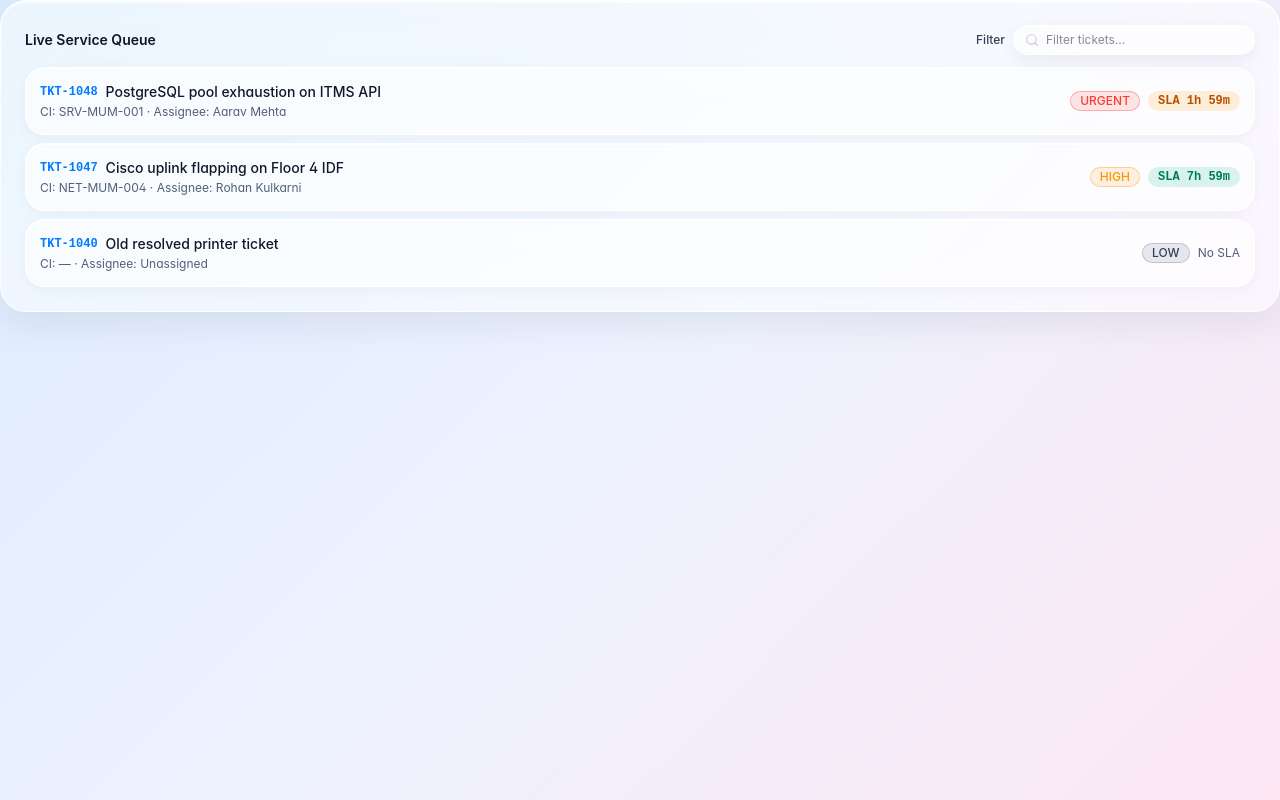
Test: ServiceQueue (task 9) › opens the inspect slide-over on row click and closes via Escape/backdrop
Click the text "TKT-1048" at (69, 92), box [40,84,98,100]
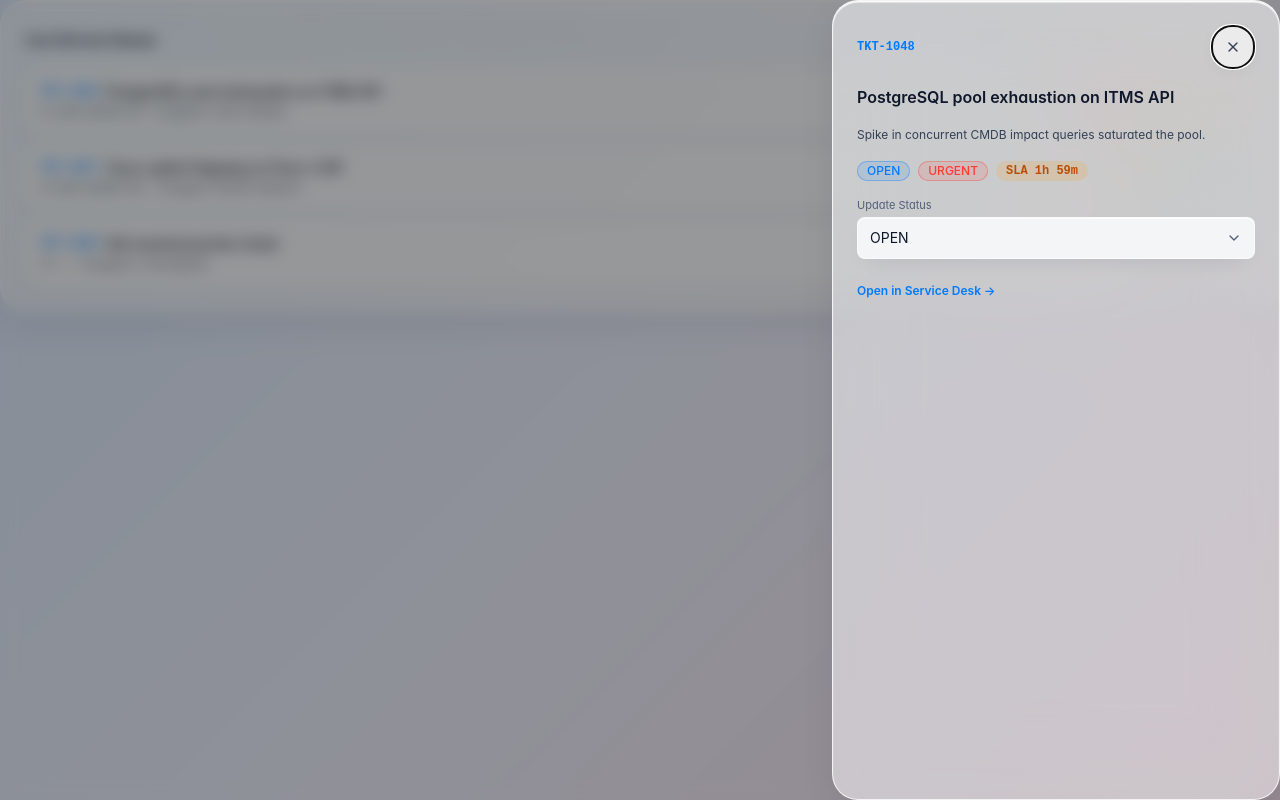
Expected: the text "TKT-1048" is shown, [857,39,915,55]
Expected: the text "Spike in concurrent CMDB impact queries saturated the pool." is shown, [857,125,1255,144]
Press Escape
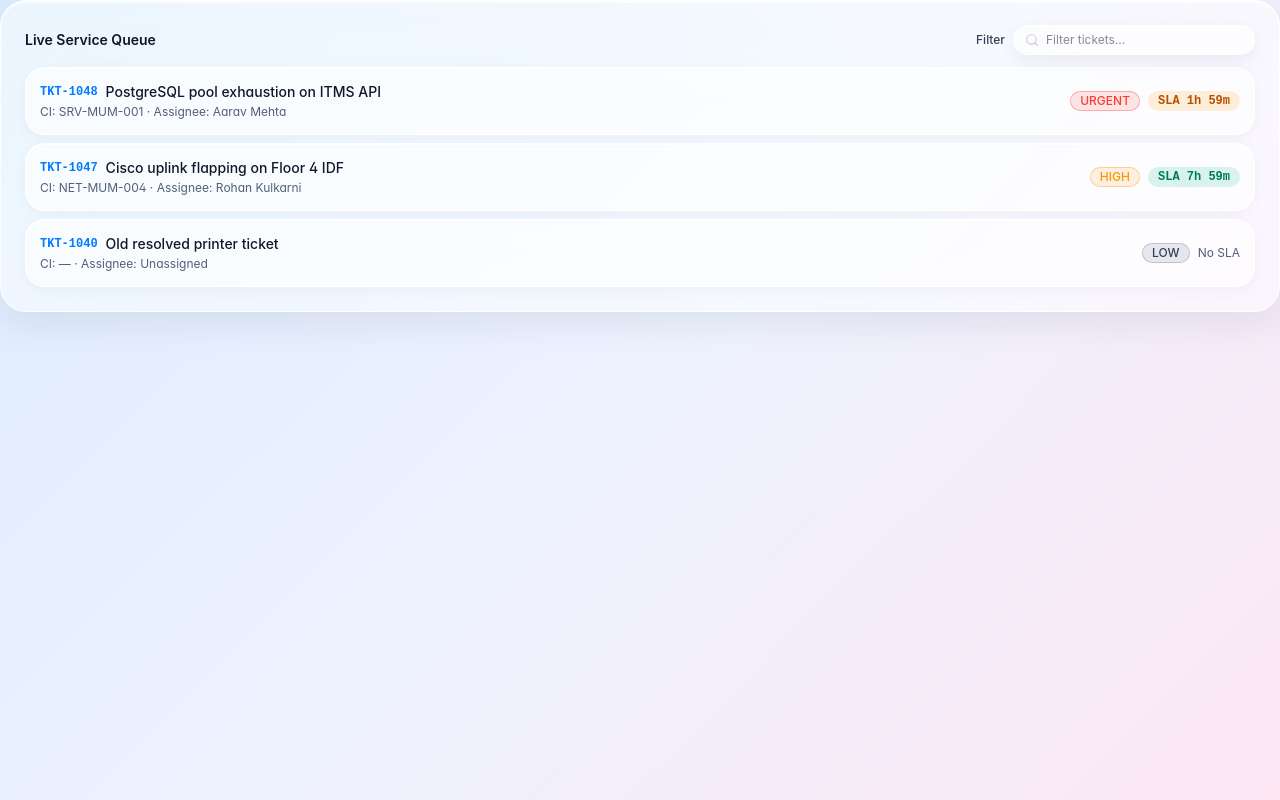
Expected: the dialog with test id "service-queue-drawer" is gone
# Reopen, then close via the scrim.
Click the text "TKT-1048" at (69, 92), box [40,84,98,100]
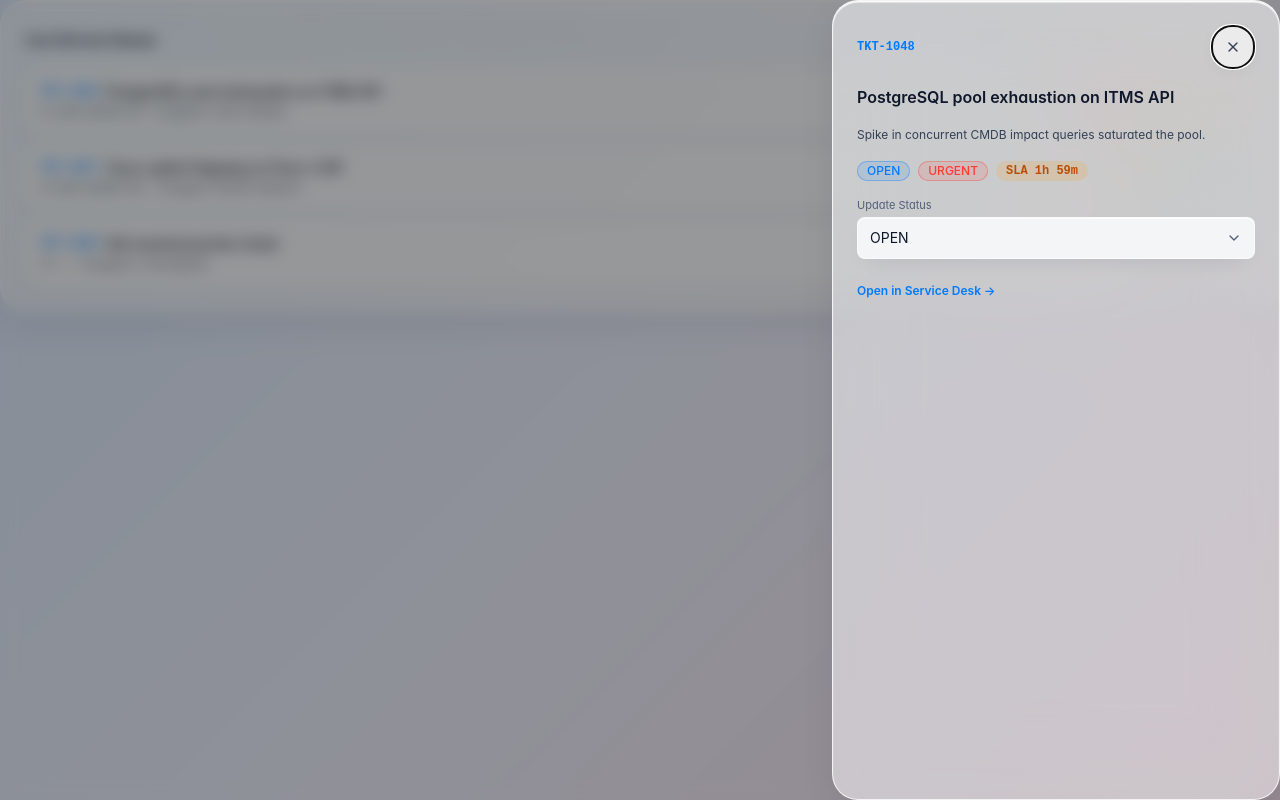
Expected: the dialog with test id "service-queue-drawer" is shown, [832,0,1279,799]
Click the element with test id "service-queue-scrim" at (640, 400), box [0,0,1279,799]
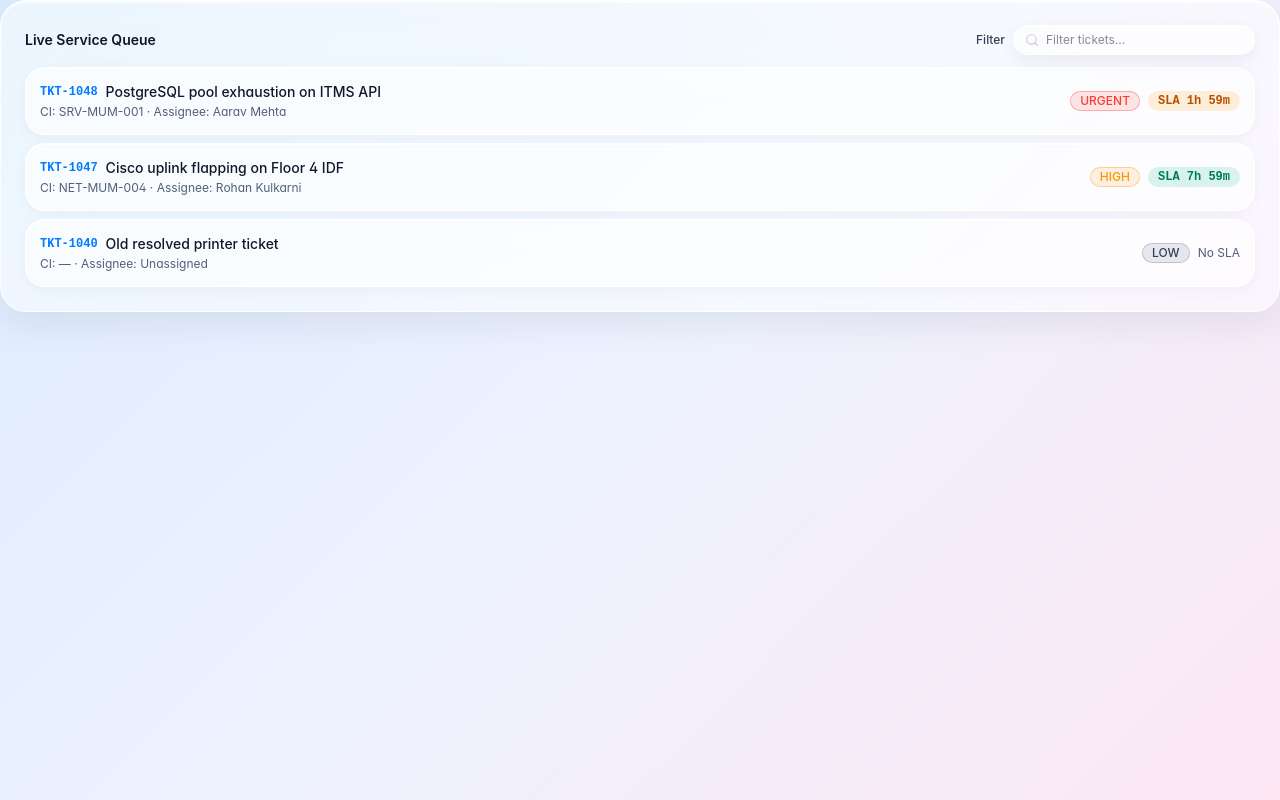
Expected: the dialog with test id "service-queue-drawer" is gone
